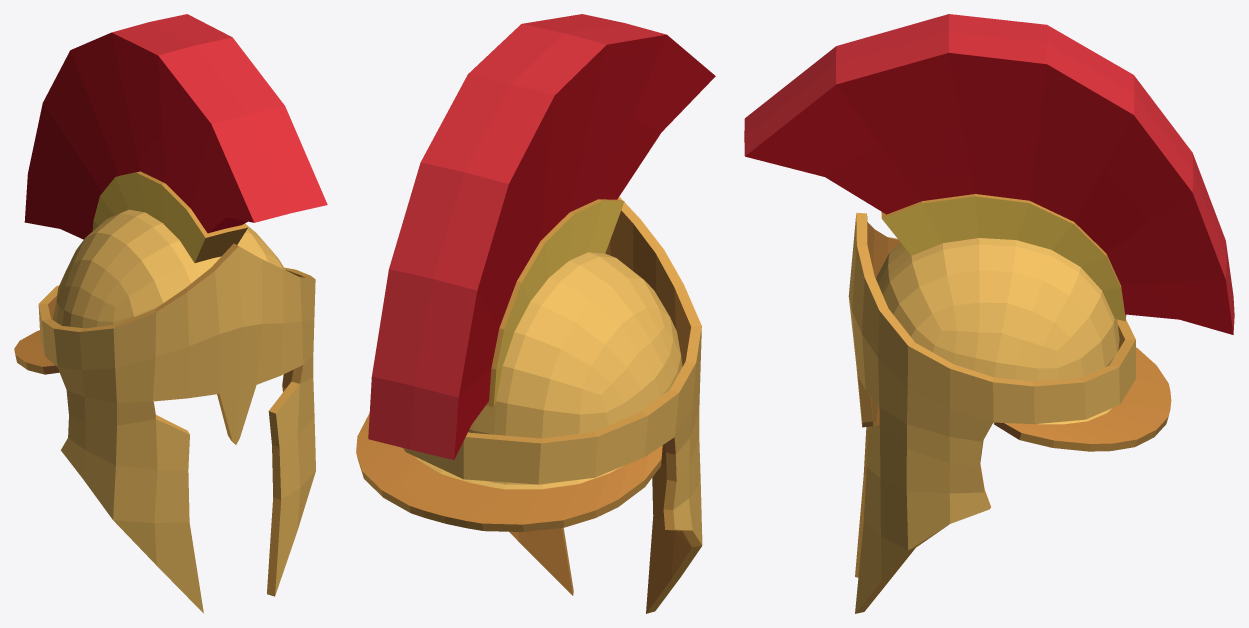
The model's file is Capacete_Espartano.fbx.
3 views of the same model, side by side, from view 1: azimuth 30°, elevation 25°; view 2: azimuth 150°, elevation 25°; view 3: azimuth 270°, elevation 25° (orthographic). The views are drawn at different scales.
Parts seen in each view (by area): view 1: Capacete_Espartano; view 2: Capacete_Espartano; view 3: Capacete_Espartano.
Part boxes in pixels (x1,y1,x2,y2): Capacete_Espartano: (14,14,327,613); Capacete_Espartano: (356,14,715,613); Capacete_Espartano: (744,14,1234,613).
Bounding box in the file's own units: 1.02 × 1.68 × 2.13.
